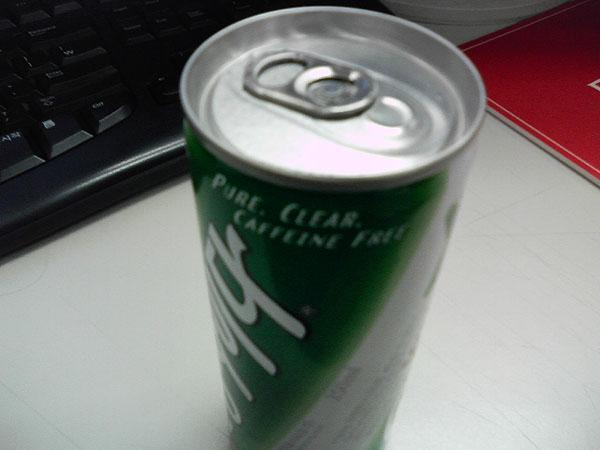metal: (180, 6, 485, 449)
